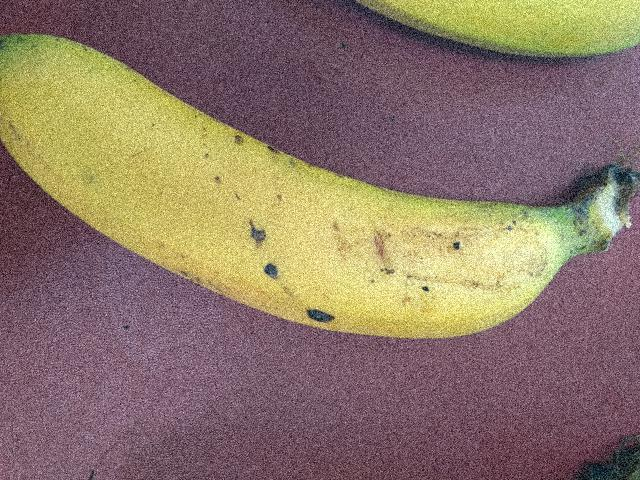freshripe: (336, 0, 639, 63)
ripe: (0, 17, 593, 356)
